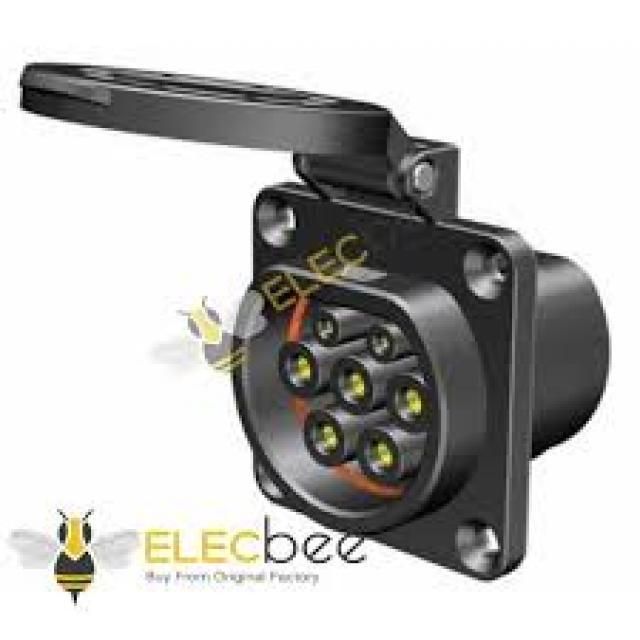Type 2: (217, 273, 475, 549)
